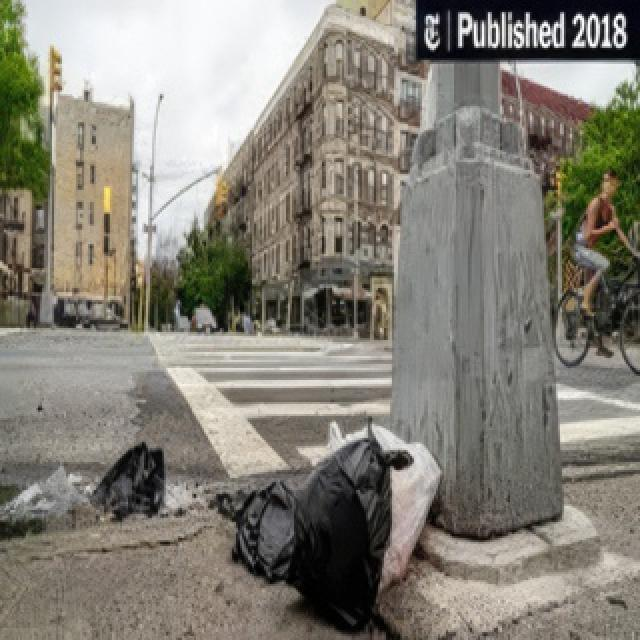Trashbag: (278, 436, 384, 618), (217, 472, 286, 558), (99, 441, 162, 516)
